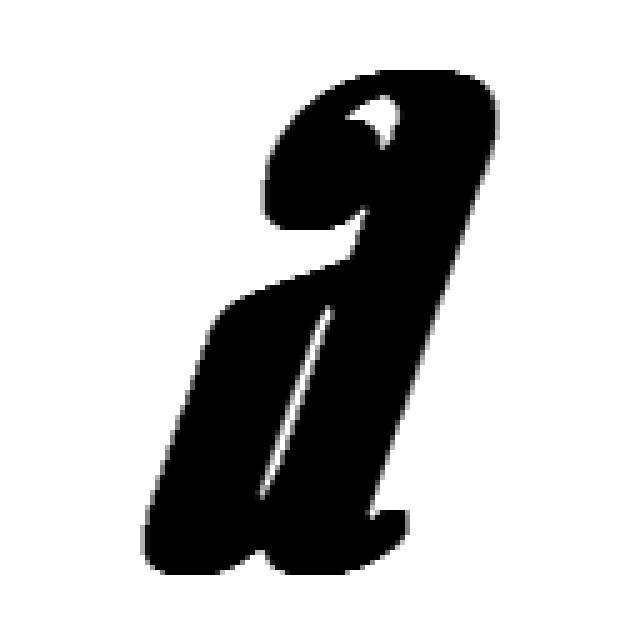A: (148, 65, 504, 579)
